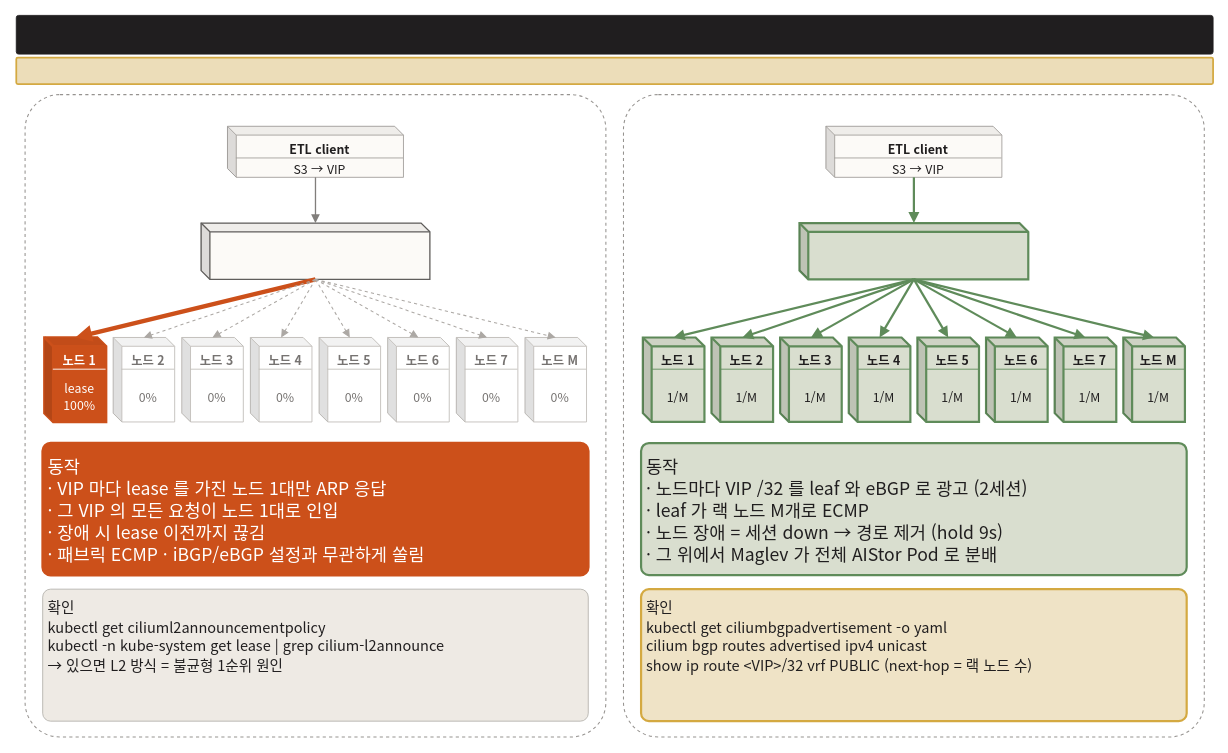
Image size: 1228x753. Some labels were removed from this diagram. The box of each missing label's shape, as (x1, y1, x2, y2) in pixels:
DCNY03 Storage leaf 쌍 VIP /32 → 랙 노드 M개 ECMP: (798, 222, 1029, 280)
DCNY03 Storage leaf 쌍 VIP → ARP 응답한 MAC 1개: (200, 222, 430, 280)
I Lake · Y1 : BGP 광고 (CiliumBGPAdvertisement) [동일 유지]: (623, 94, 1204, 737)
LB IPAM 은 주소만 정함. 분산은 VIP 를 알리는 방식이 결정 → L2 면 VIP 당 노드 1대, BGP 면 광고 노드 전체 ECMP: (15, 56, 1214, 84)
그림 2-1. VIP 광고 방식 : BGP 유지 (L2 는 참고): (15, 15, 1213, 54)
참고 : L2 announcement (ARP) 였다면 (I Lake 는 BGP · 해당 없음): (24, 94, 606, 737)
